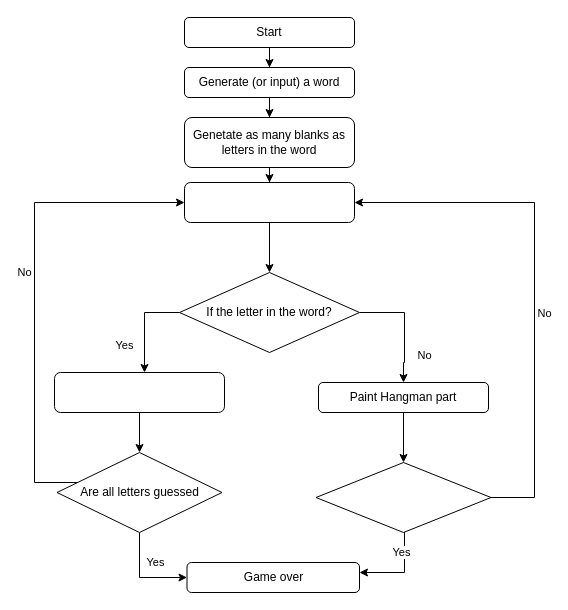
Image size: 568x610. Some labels were removed from this diagram. Here are the shapes that lost their labels. From the top down, the centre of each, then its label:
the point at 269,202: Ask the user to guess the letter
the point at 139,392: Replace blank to a letter
the point at 403,497: Is the hangman built?
